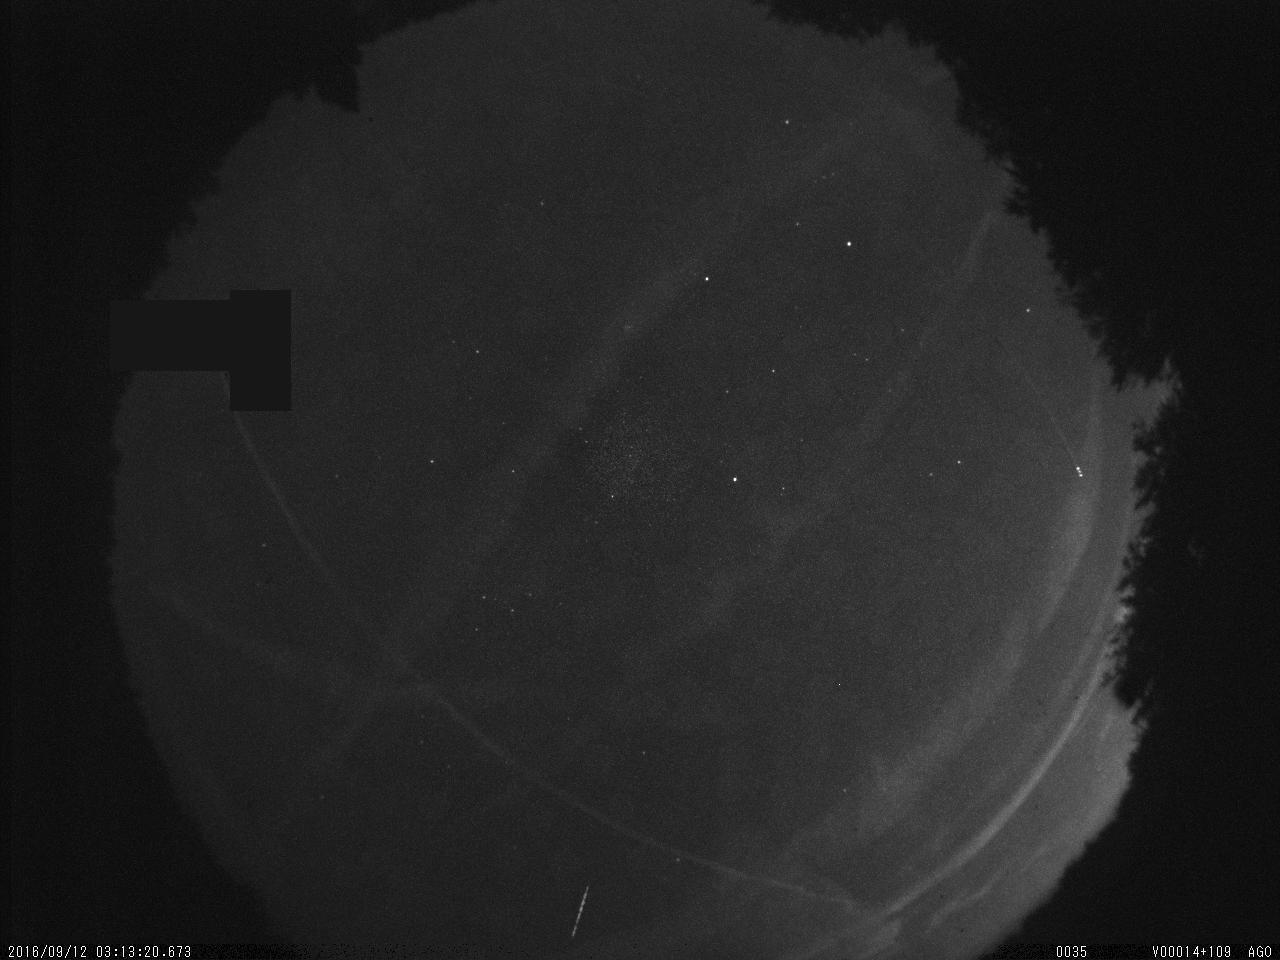Meteor: (564, 879, 598, 948)
